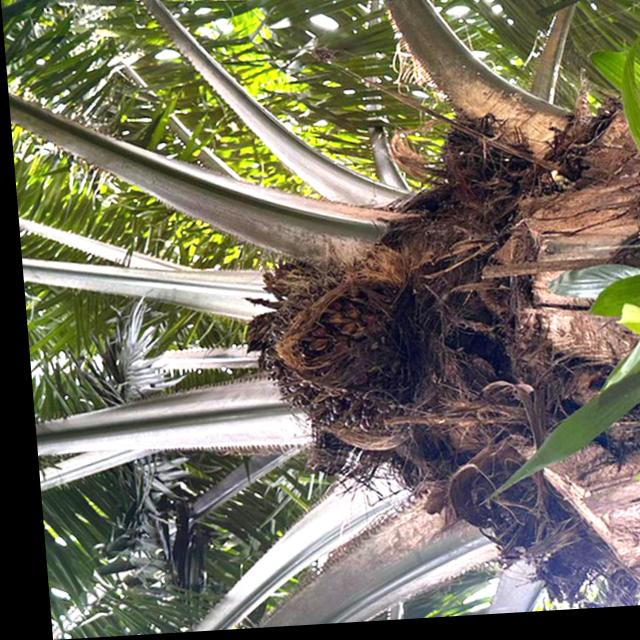ripe: (232, 255, 417, 450)
